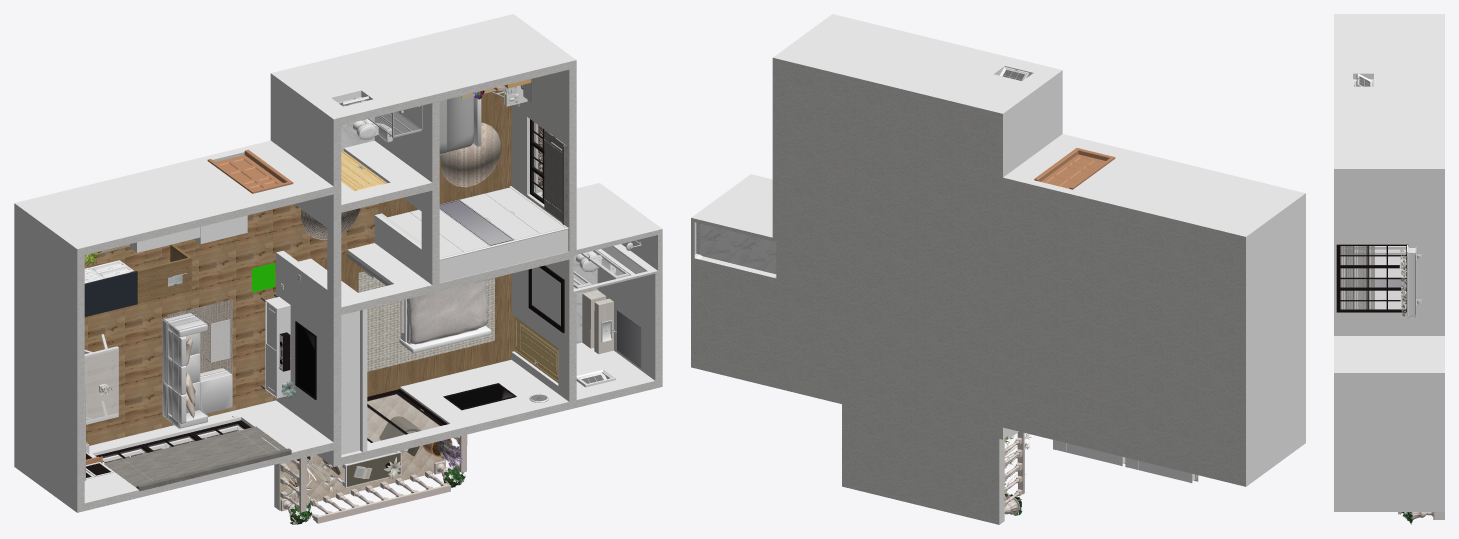
Rendered from house.glb.
3 views of the same model, side by side, from view 1: azimuth 30°, elevation 25°; view 2: azimuth 150°, elevation 25°; view 3: azimuth 270°, elevation 25° (orthographic). The views are drawn at different scales.
Parts seen in each view (by area): view 1: Object_34, Object_17, Object_44, Object_64, Object_47, Object_37, Object_10, Object_59, Object_33, Object_65, Object_38, Object_66 (+19 smaller); view 2: Object_43, Object_34, Object_15, Object_54, Object_64, Object_32; view 3: Object_34, Object_65, Object_64, Object_10, Object_66, Object_86, Object_33, Object_77, Object_32.
Boxes of the visible parts, left/top/right/bottom form: Object_34: left=14, top=14, right=662, bottom=512; Object_17: left=84, top=204, right=378, bottom=445; Object_44: left=77, top=60, right=662, bottom=512; Object_64: left=84, top=85, right=615, bottom=524; Object_47: left=335, top=94, right=657, bottom=399; Object_37: left=315, top=90, right=514, bottom=396; Object_10: left=104, top=130, right=567, bottom=491; Object_59: left=86, top=86, right=630, bottom=453; Object_33: left=274, top=70, right=569, bottom=510; Object_65: left=90, top=102, right=645, bottom=462; Object_38: left=279, top=394, right=445, bottom=510; Object_66: left=94, top=119, right=564, bottom=471; Object_43: left=691, top=58, right=1245, bottom=524; Object_34: left=691, top=14, right=1305, bottom=486; Object_15: left=699, top=224, right=776, bottom=274; Object_54: left=1034, top=148, right=1115, bottom=189; Object_64: left=999, top=67, right=1198, bottom=510; Object_32: left=1004, top=431, right=1024, bottom=514; Object_34: left=1334, top=14, right=1444, bottom=511; Object_65: left=1340, top=246, right=1405, bottom=309; Object_64: left=1340, top=73, right=1422, bottom=522; Object_10: left=1340, top=246, right=1374, bottom=309; Object_66: left=1336, top=244, right=1408, bottom=312; Object_86: left=1341, top=279, right=1406, bottom=287; Object_33: left=1341, top=246, right=1444, bottom=519; Object_77: left=1399, top=248, right=1406, bottom=317; Object_32: left=1398, top=512, right=1435, bottom=522.
Bounding box in the file's own units: 15.82 × 11.43 × 2.95.
Materials: 96 (62 with a texture image).
